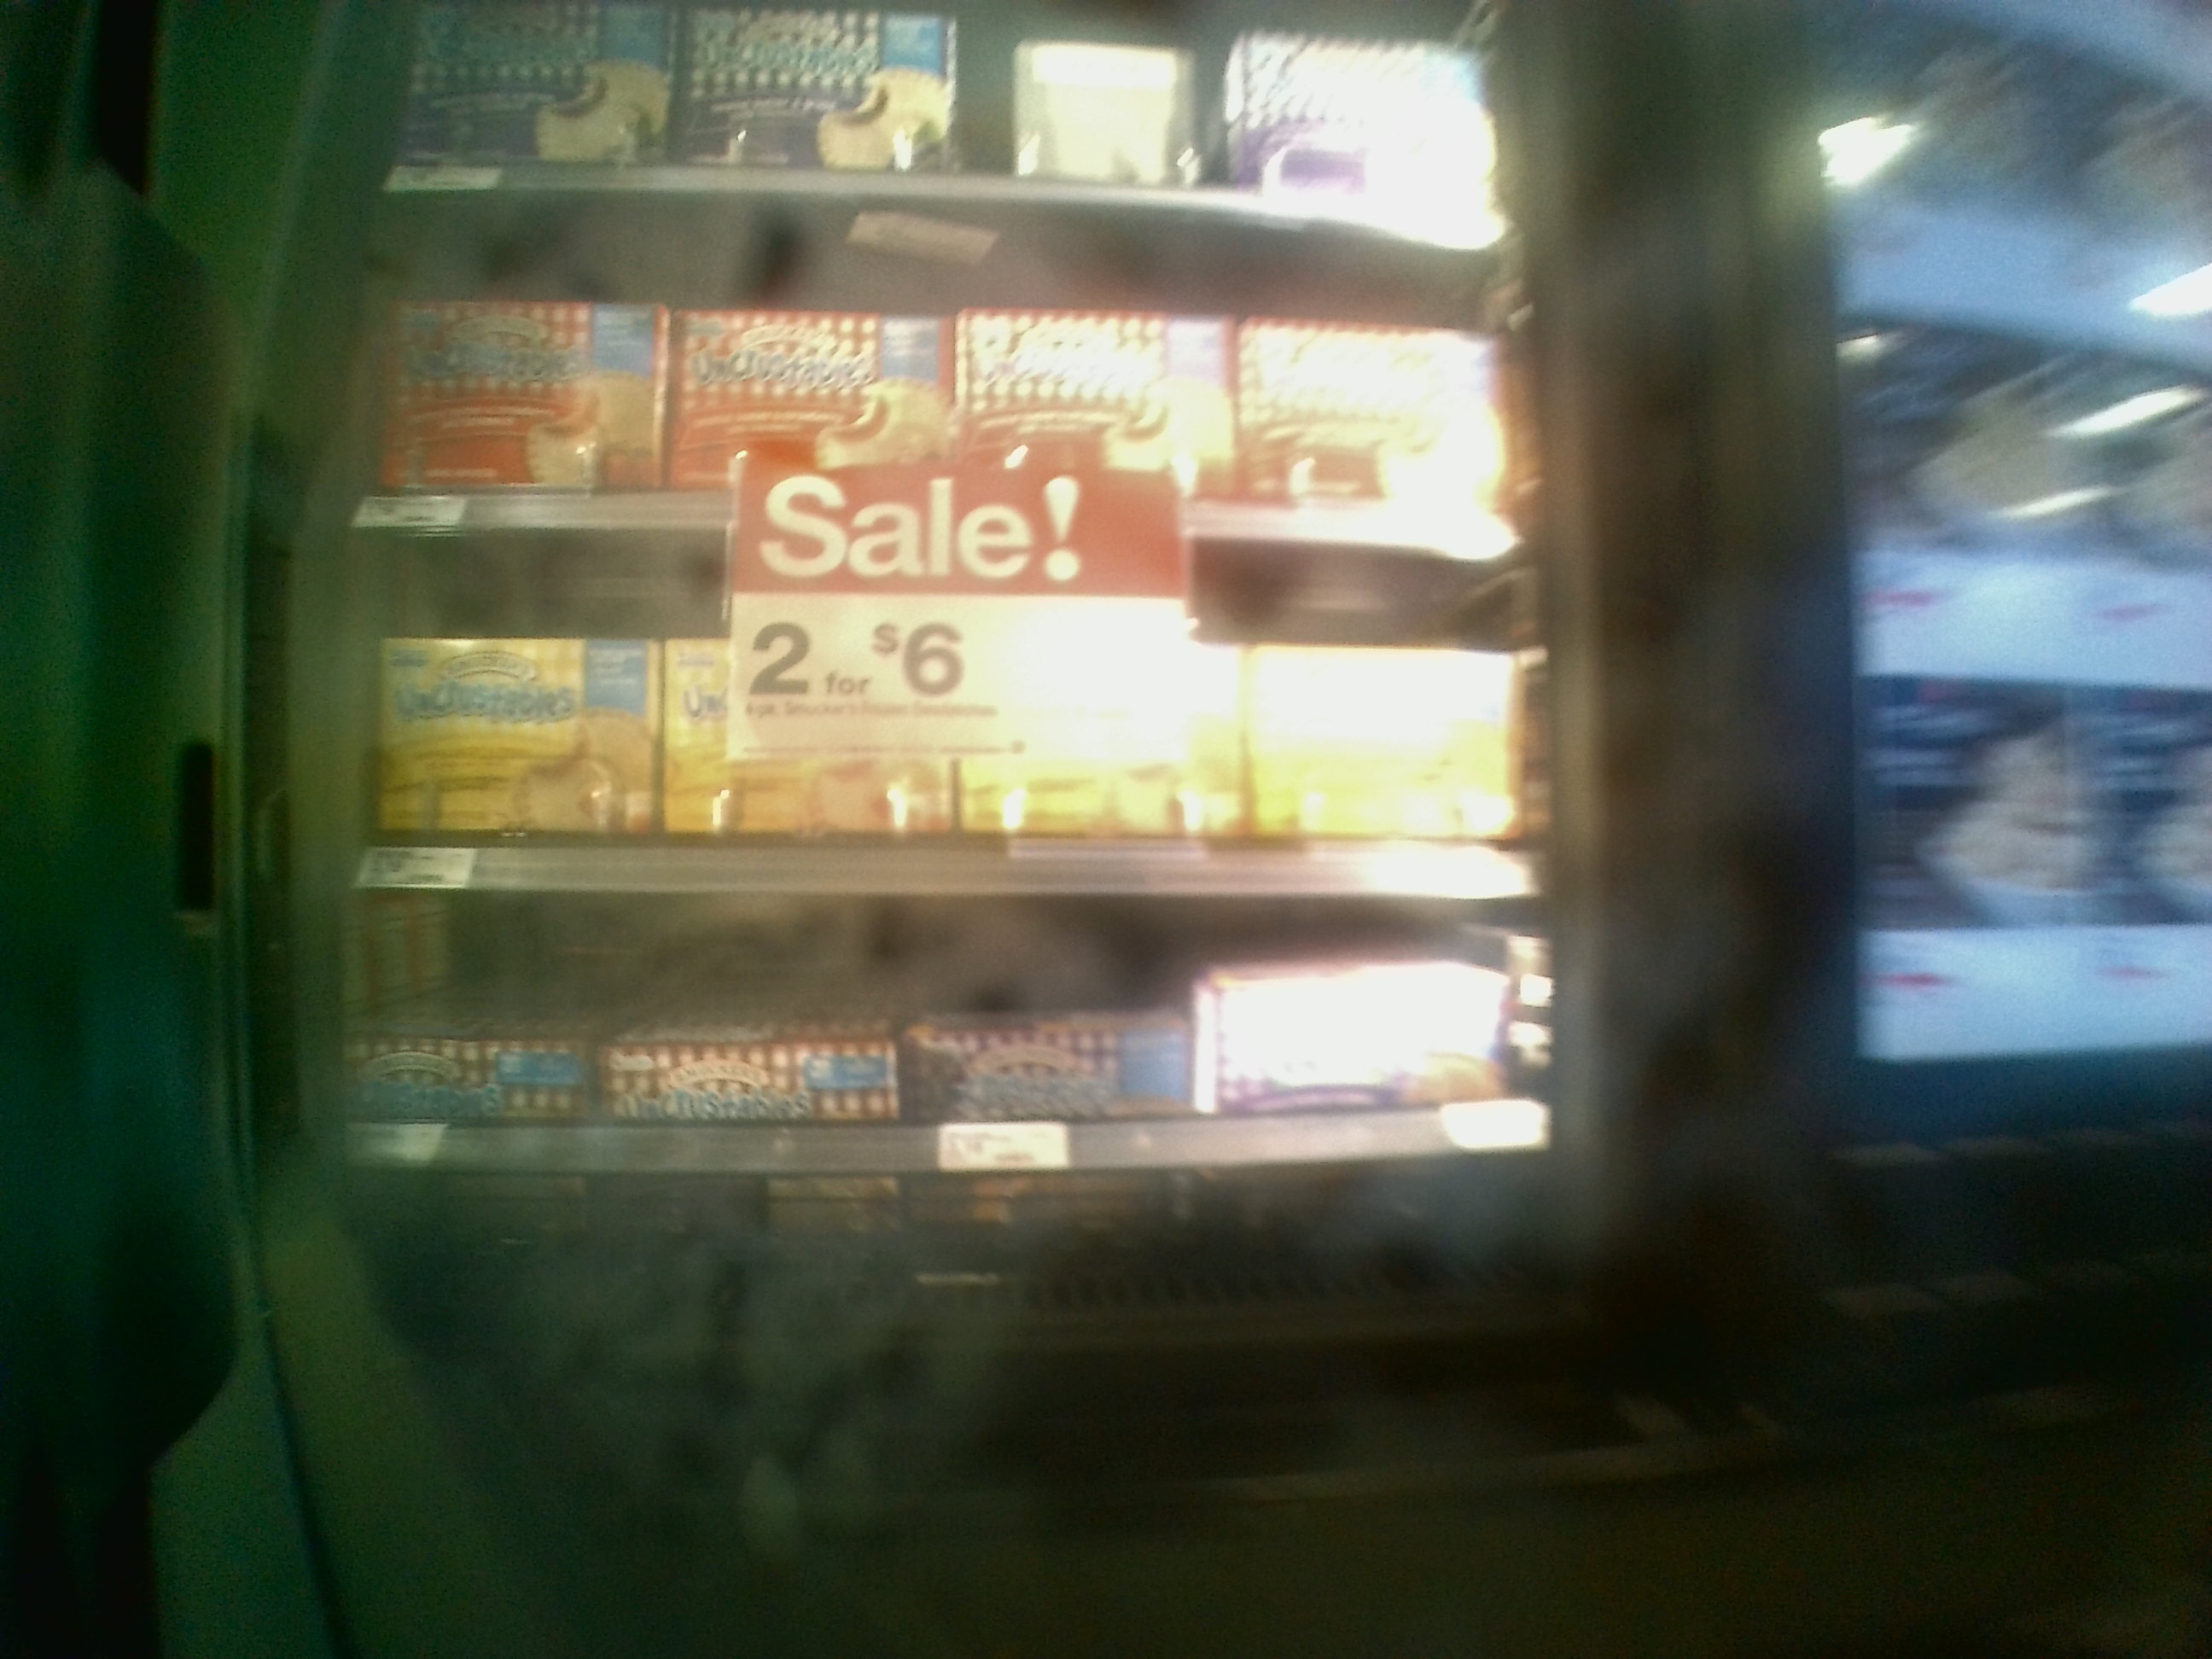shelf: (327, 884, 1578, 1314), (350, 540, 1559, 903), (355, 188, 1545, 556)
